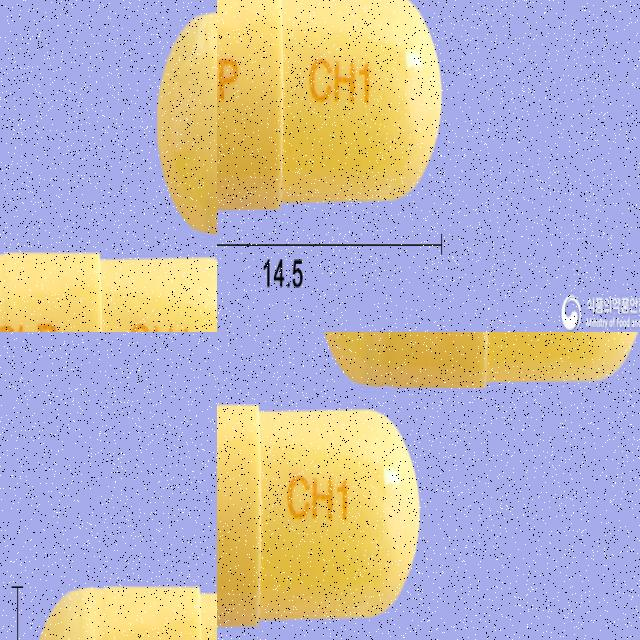Amocla: (217, 31, 502, 314), (626, 32, 640, 317)
Ceprion Cap: (217, 398, 425, 632), (313, 332, 640, 393)
Clarimacin: (0, 227, 217, 332)
Crama: (29, 563, 217, 640)
